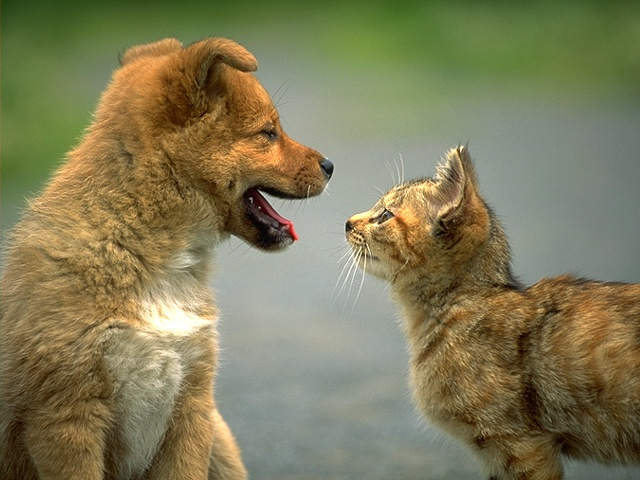cat: (340, 142, 640, 479)
dog: (3, 31, 332, 480)
